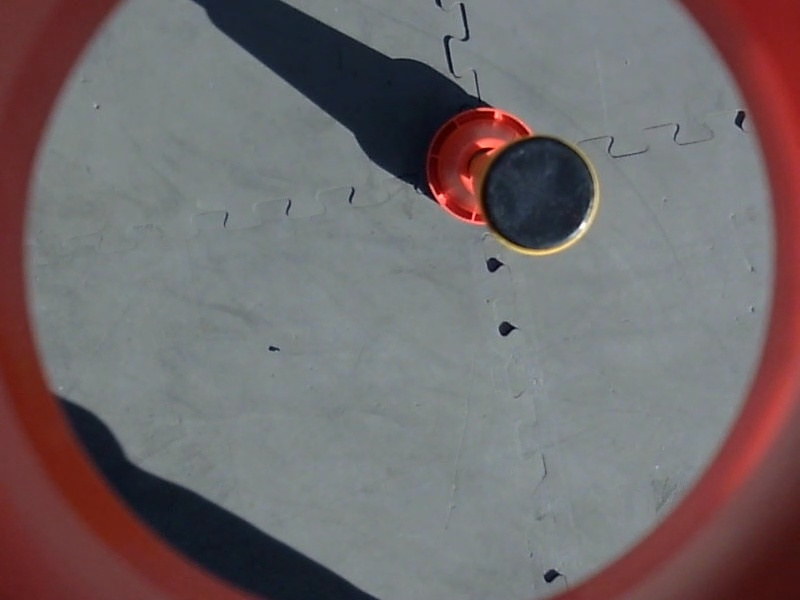tip: (482, 134, 603, 263)
